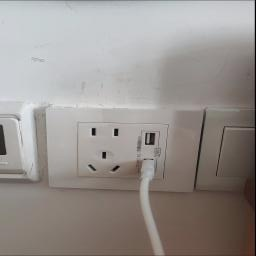outlet: (38, 100, 208, 202)
